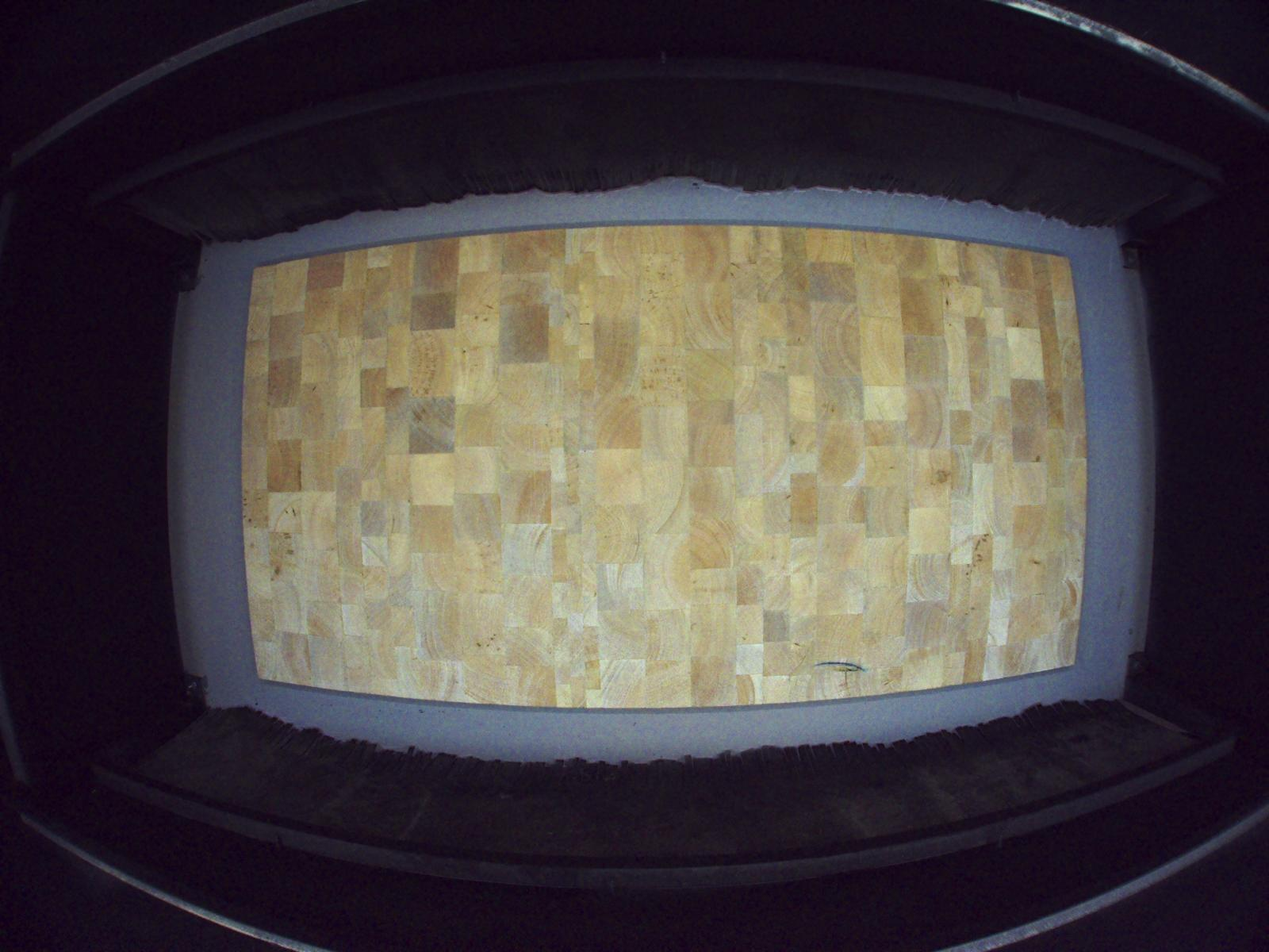nudillo: (826, 664, 860, 673)
